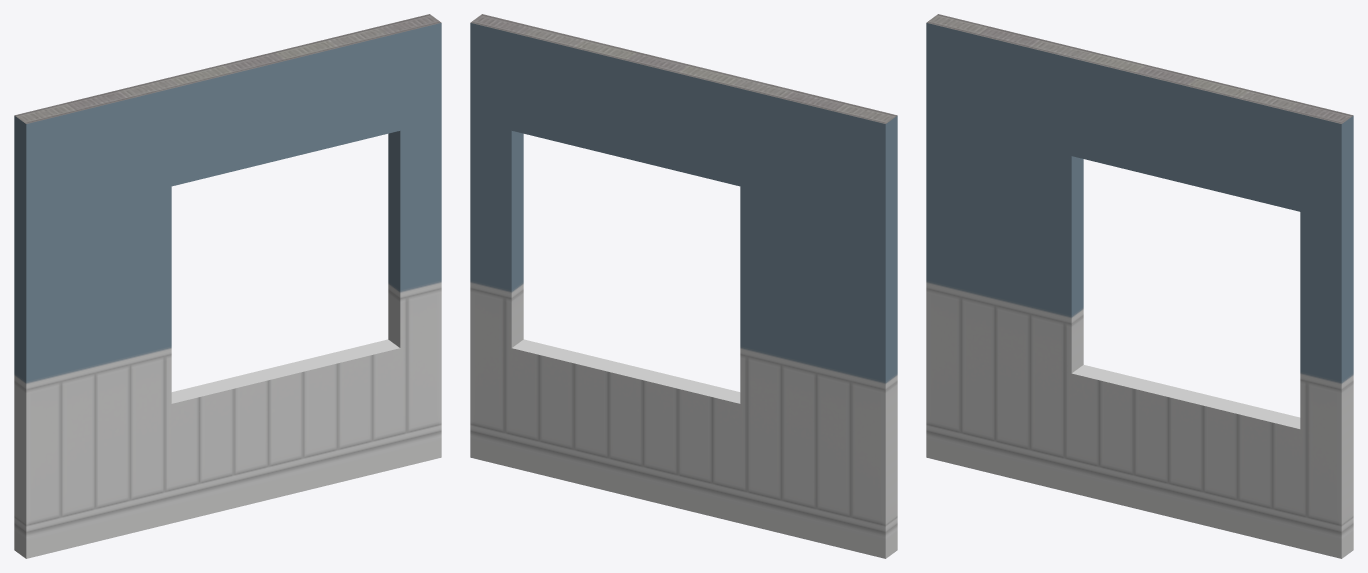
The model's file is wall7_5.fbx.
3 renders of one model, left to right at view 1: azimuth 30°, elevation 25°; view 2: azimuth 150°, elevation 25°; view 3: azimuth 330°, elevation 25°, orthographic.
Visible parts, largest first — view 1: wall7_bathroom_e; view 2: wall7_bathroom_e; view 3: wall7_bathroom_e.
Boxes of the visible parts, box(x1,y1,x2,y2) form: wall7_bathroom_e: box(14, 14, 441, 558); wall7_bathroom_e: box(470, 14, 897, 558); wall7_bathroom_e: box(926, 14, 1353, 558).
Bounding box in the file's own units: 400 × 400 × 20.
